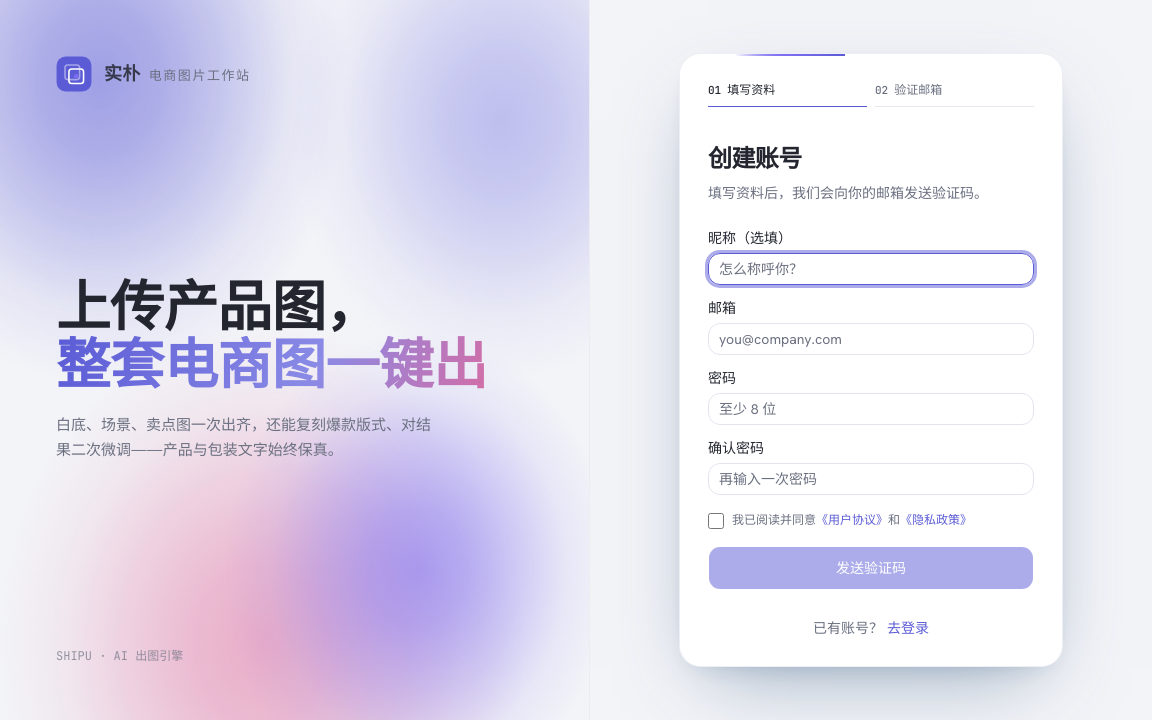
Test: RegisterPage sensitive mutation lifecycle › only marks a backend 400 verification response as invalid or expired
In the field labelled "邮箱": (871, 339) [708, 323, 1034, 355], type "new.user@example.com"
In the password field labelled "密码": (871, 409) [708, 393, 1034, 425], type "very-secret-password"
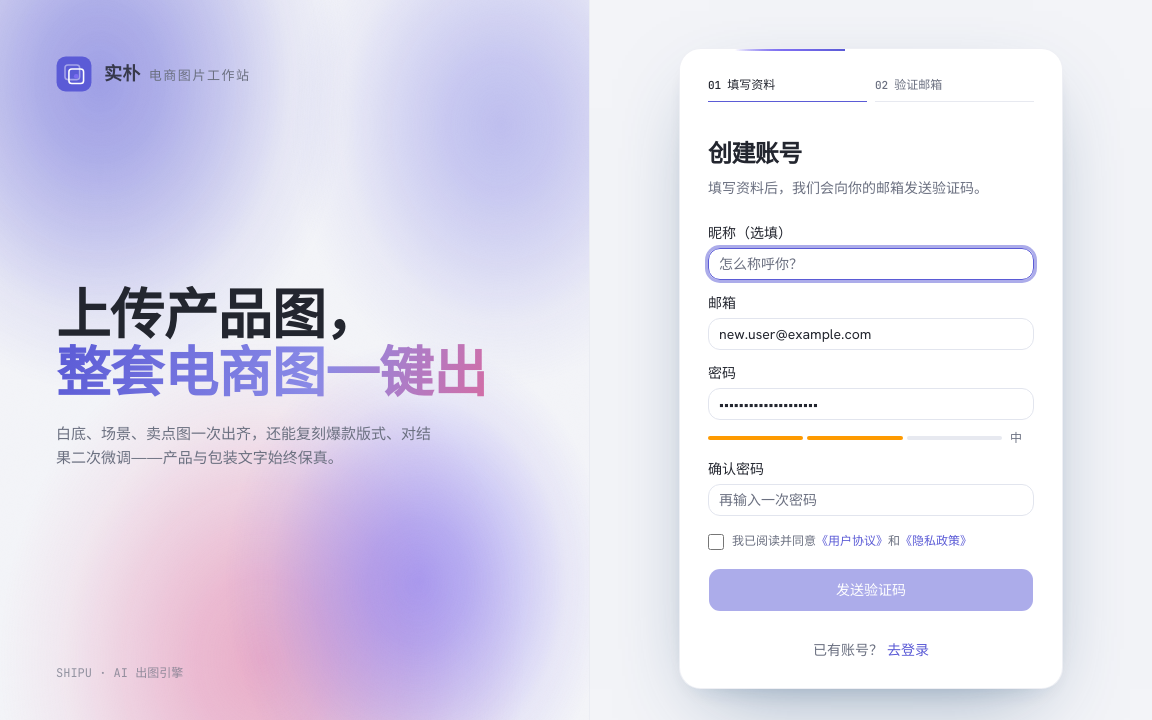
In the password field labelled "确认密码": (871, 500) [708, 484, 1034, 516], type "very-secret-password"
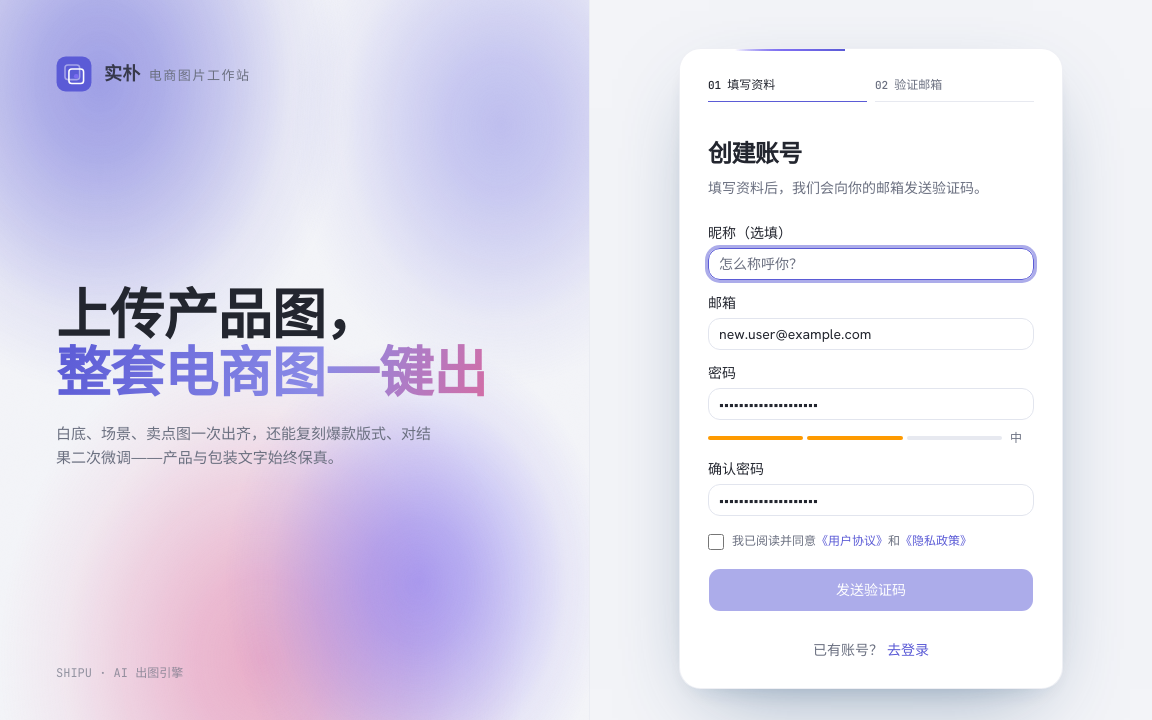
Click the checkbox: click(716, 542) [708, 534, 724, 550]
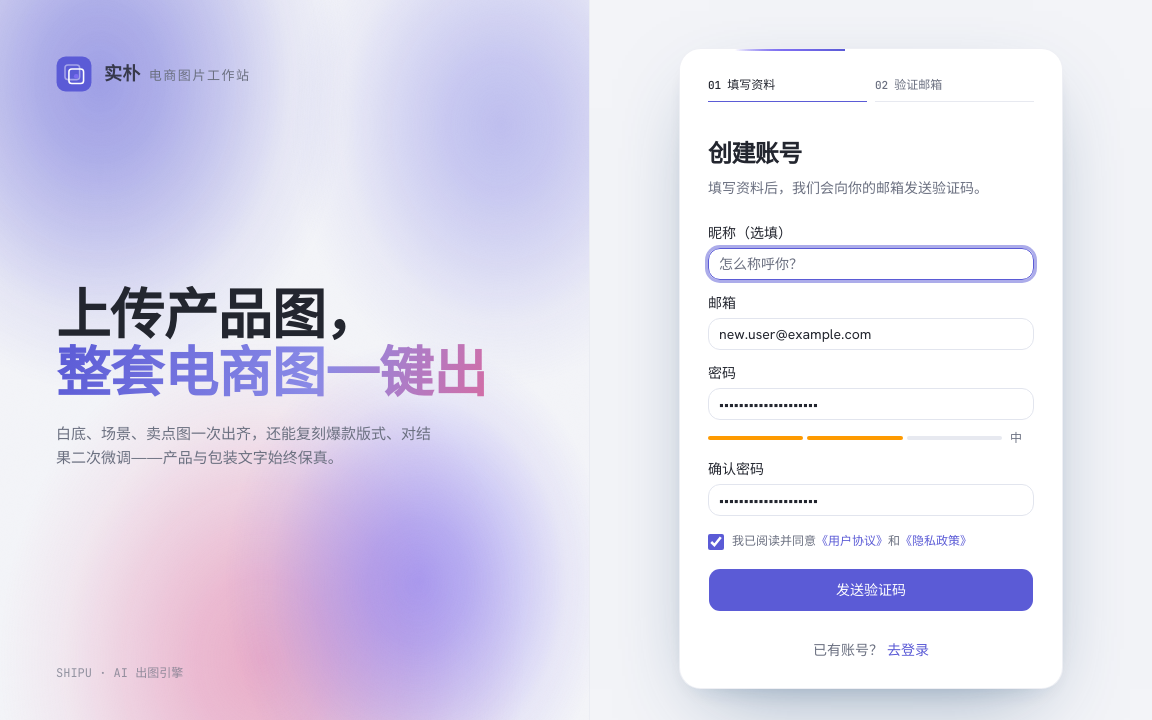
Click the button "发送验证码": click(871, 590) [708, 568, 1034, 612]
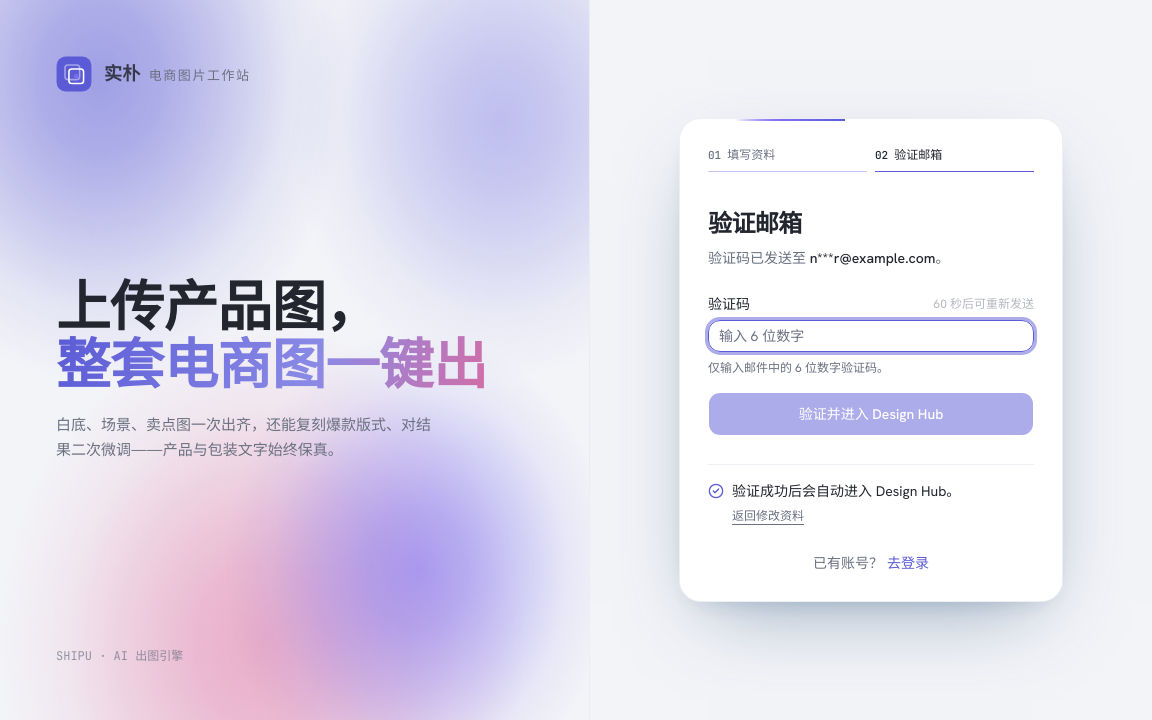
In the field labelled "验证码": (871, 336) [708, 320, 1034, 352], type "123456"
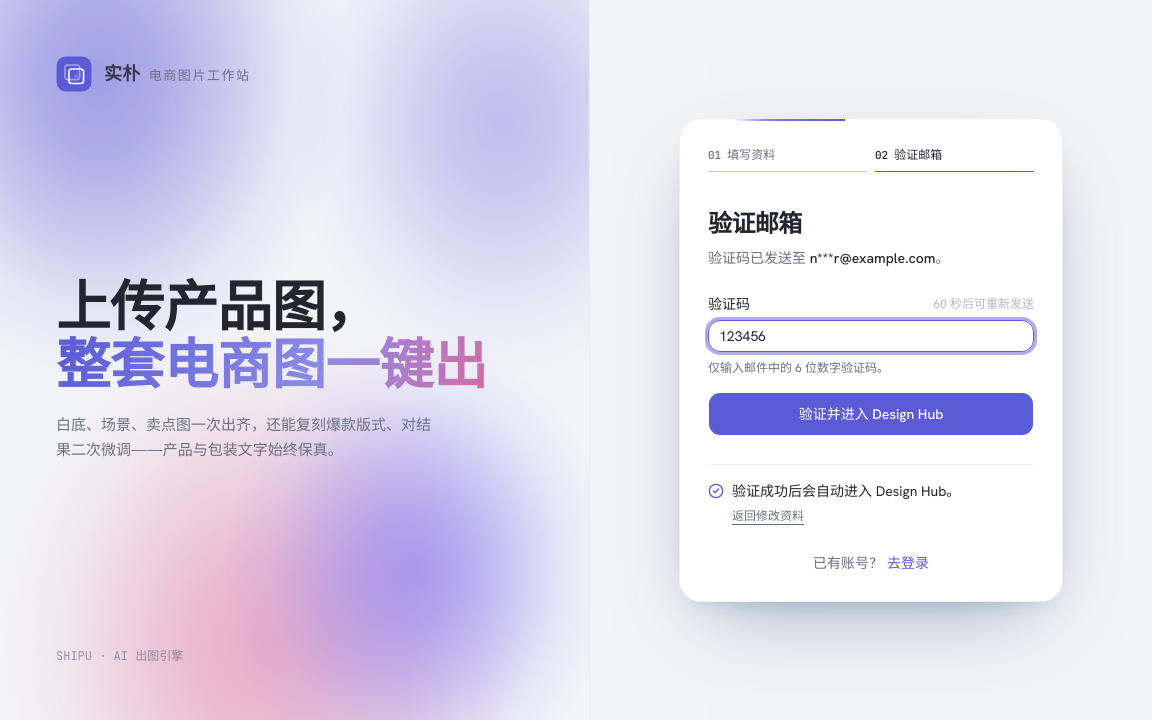
Click the button "验证并进入 Design Hub": click(871, 414) [708, 392, 1034, 436]
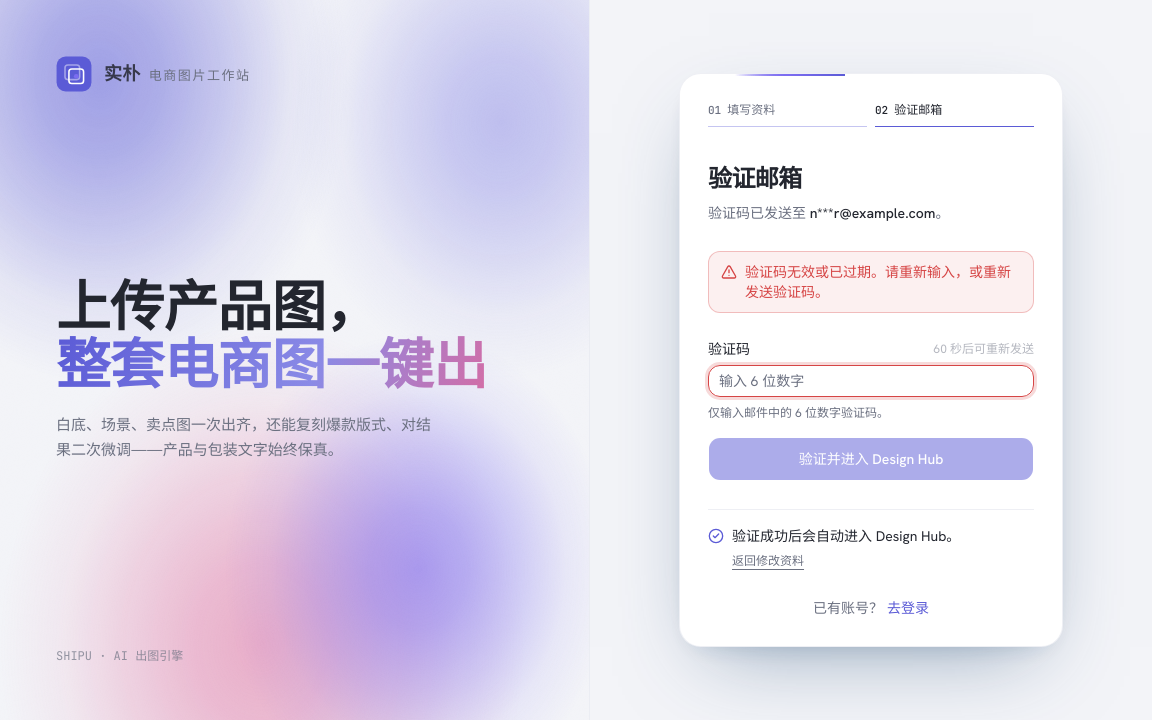
Expected: the message shows "验证码无效或已过期", [745, 263, 1011, 301]
Expected: the text "验证码无效或已过期。请重新输入，或重新发送验证码。" is shown once, [745, 262, 1021, 302]
Expected: the field labelled "验证码" is empty, [708, 365, 1034, 397]
